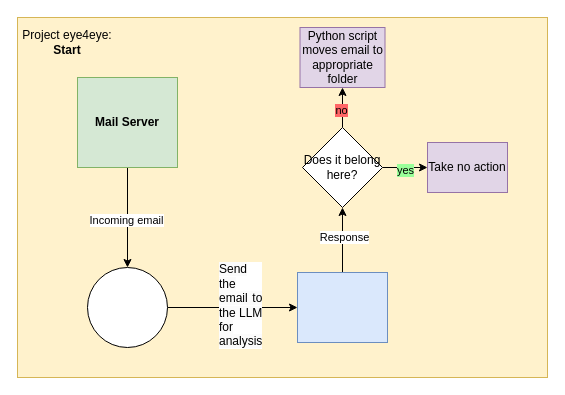
The diagram is 565 pixels wide and 395 high, and some of its shapes have lost their labels. Each missing label, with the centre of its shape:
"LLM: Qwen3:4b" belongs at point (342, 307).
"Python reads and packages email" belongs at point (127, 307).
